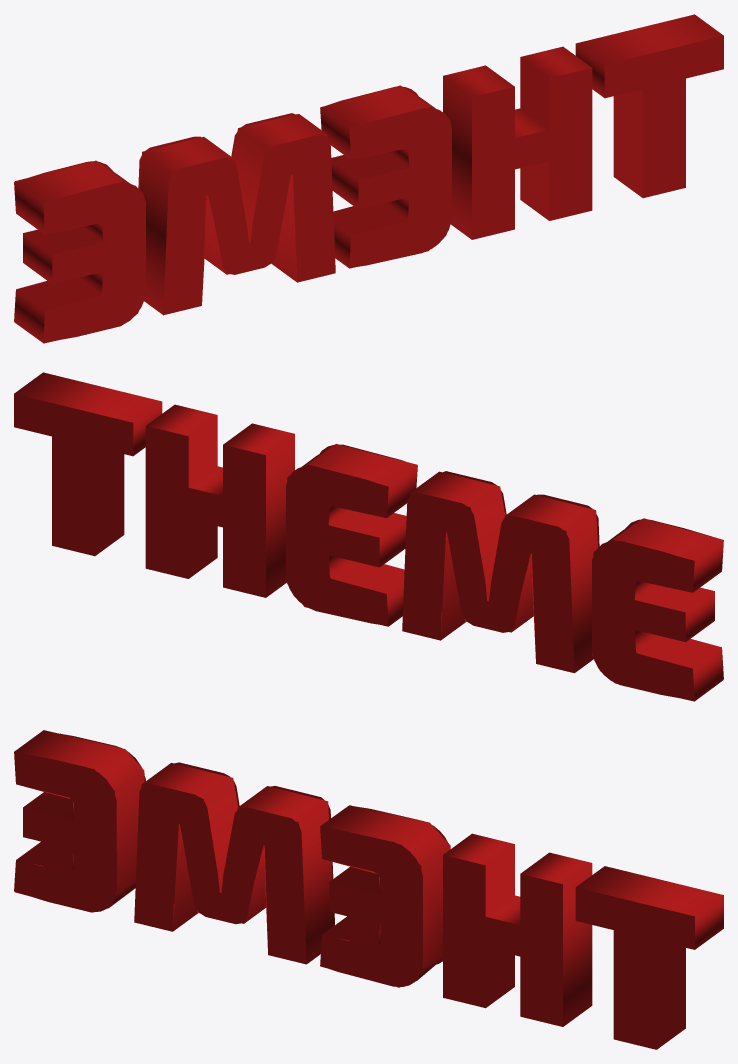
File: theme.fbx
3 renders of one model, top to bottom at view 1: azimuth 30°, elevation 25°; view 2: azimuth 150°, elevation 25°; view 3: azimuth 330°, elevation 25°, orthographic.
Visible parts, largest first — view 1: Text; view 2: Text; view 3: Text.
Boxes of the visible parts, x1,y1,x2,y2 form: Text: [14, 14, 723, 343]; Text: [14, 372, 723, 701]; Text: [14, 730, 723, 1049].
Size of the model in its own units: 10.78 by 2.19 by 0.8.
